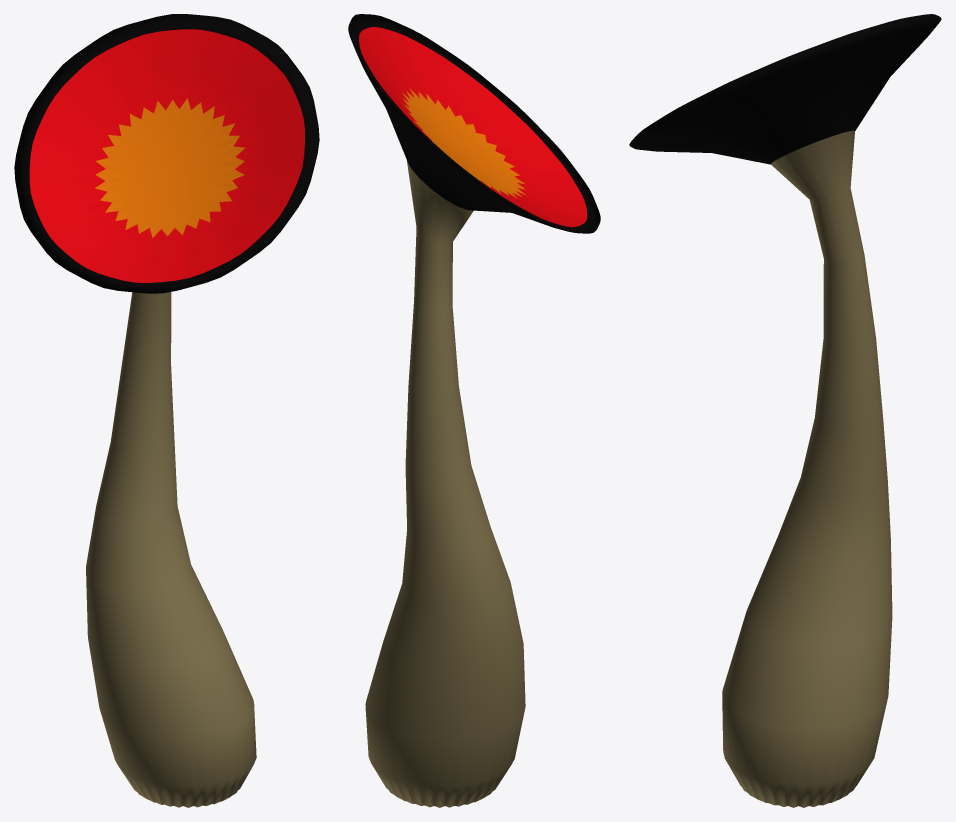
File: mushroom 3.fbx
3 views of the same model, side by side, from view 1: azimuth 30°, elevation 25°; view 2: azimuth 150°, elevation 25°; view 3: azimuth 270°, elevation 25° (orthographic). The views are drawn at different scales.
Parts seen in each view (by area): view 1: Circle.001; view 2: Circle.001; view 3: Circle.001.
Boxes of the visible parts, x1,y1,x2,y2 form: Circle.001: [14, 14, 319, 807]; Circle.001: [348, 14, 600, 807]; Circle.001: [629, 14, 941, 807].
Bounding box in the file's own units: 158 × 484 × 170.
